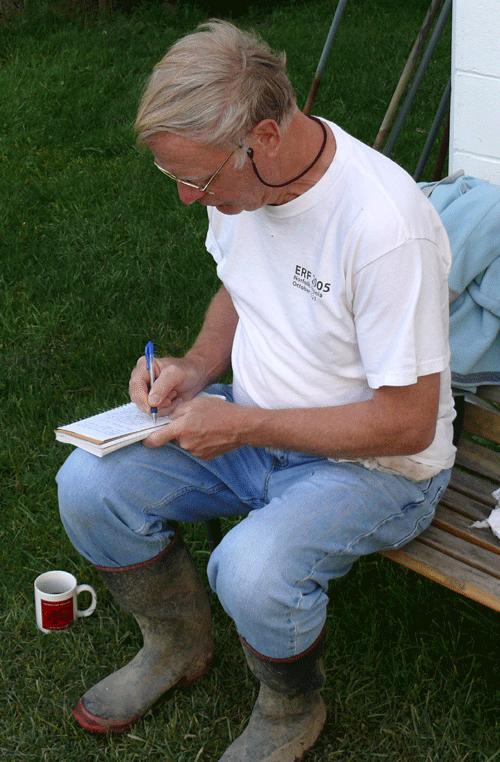person: (55, 22, 455, 762)
